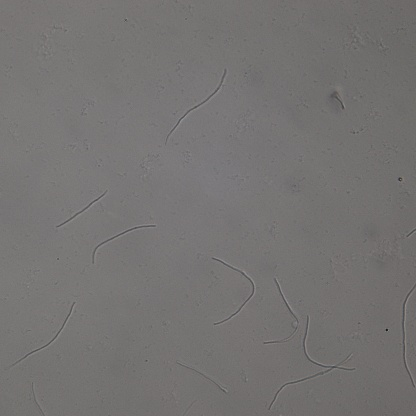Sensitive: (269, 315, 355, 409), (165, 70, 228, 145), (8, 302, 77, 370), (212, 256, 257, 329), (262, 276, 301, 347), (91, 224, 156, 264), (55, 189, 107, 227), (400, 284, 416, 391), (177, 362, 227, 395)
